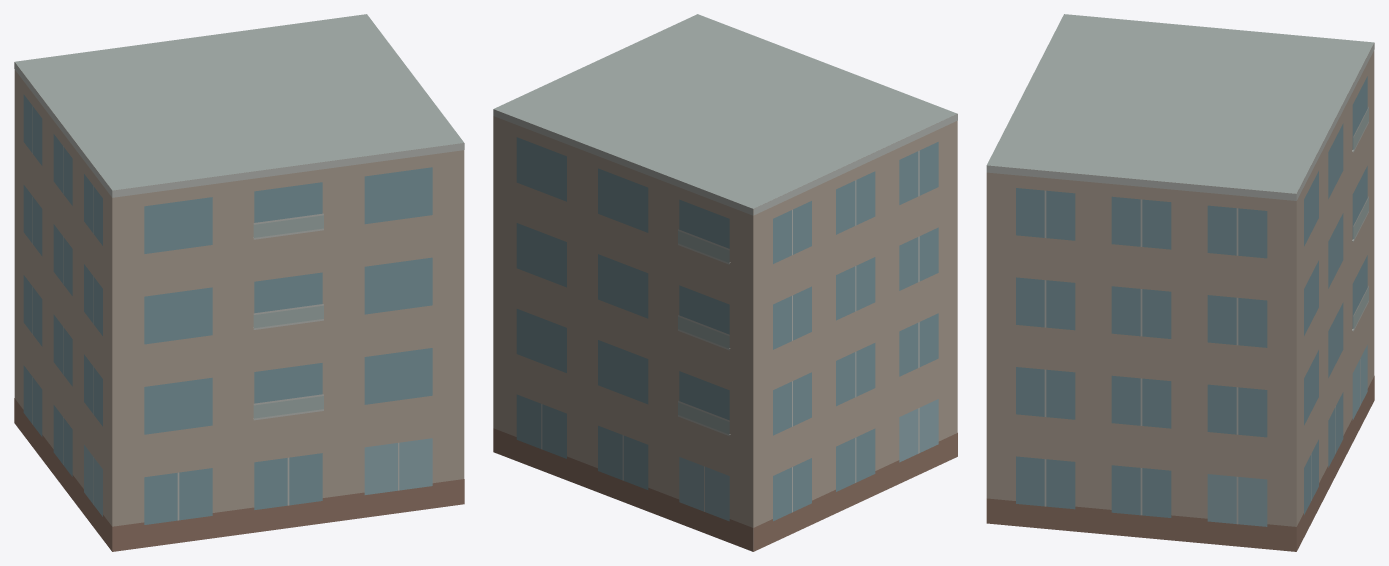
File: residential-55ad3e58-0e91-4bc5-96eb-f41b2885aa38.glb
3 views of the same model, side by side, from view 1: azimuth 30°, elevation 25°; view 2: azimuth 150°, elevation 25°; view 3: azimuth 270°, elevation 25° (orthographic). The views are drawn at different scales.
Visible parts, largest first — view 1: residential-55ad3e58-0e91-4bc5-96eb-f41b2885aa38.tmp; view 2: residential-55ad3e58-0e91-4bc5-96eb-f41b2885aa38.tmp; view 3: residential-55ad3e58-0e91-4bc5-96eb-f41b2885aa38.tmp.
Boxes of the visible parts, box(x1,y1,x2,y2) form: residential-55ad3e58-0e91-4bc5-96eb-f41b2885aa38.tmp: box(14, 14, 464, 551); residential-55ad3e58-0e91-4bc5-96eb-f41b2885aa38.tmp: box(493, 14, 957, 551); residential-55ad3e58-0e91-4bc5-96eb-f41b2885aa38.tmp: box(986, 14, 1374, 551).
Size of the model in its own units: 13.15 by 12.2 by 11.99.
